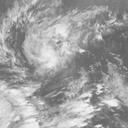cyclone: (23, 18, 82, 79)
